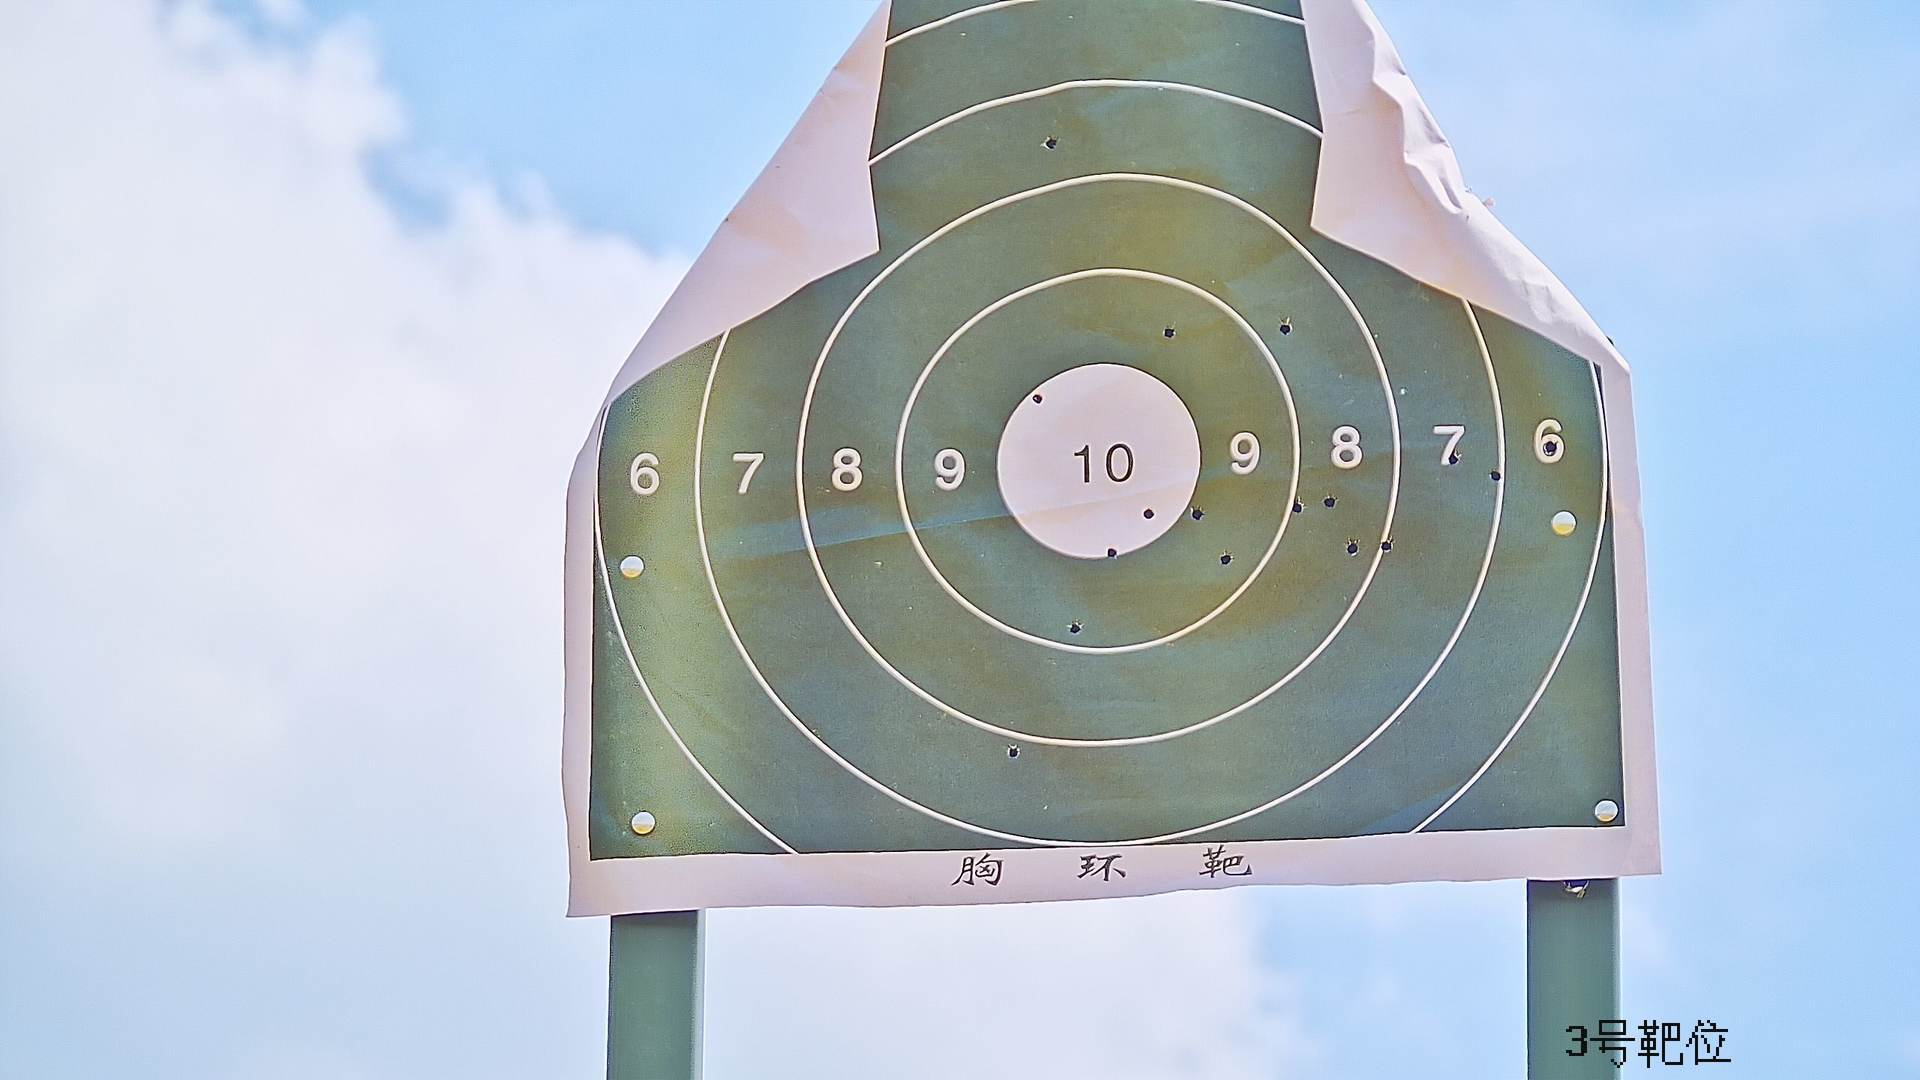hole: (1042, 137, 1059, 152), (1543, 439, 1557, 456), (1291, 500, 1305, 516), (1345, 538, 1357, 556), (1189, 504, 1203, 520), (1379, 539, 1395, 553), (1106, 546, 1120, 560), (1142, 506, 1156, 520), (1448, 451, 1458, 468), (1069, 622, 1083, 636), (1220, 551, 1233, 564), (1323, 495, 1336, 506), (1280, 324, 1294, 335), (1164, 327, 1176, 338), (1007, 744, 1018, 756), (1034, 393, 1043, 406), (1489, 469, 1501, 479)
kernel: (1095, 465, 1100, 469)
target: (589, 3, 1625, 858)
ten: (992, 365, 1203, 562)
